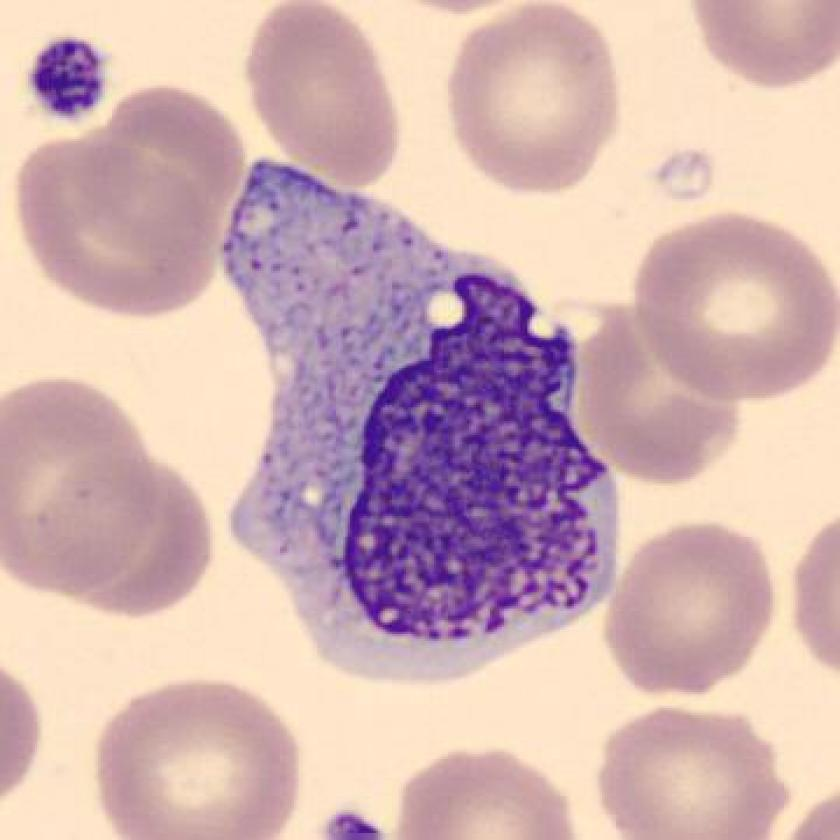monocyte: (183, 135, 645, 709)
